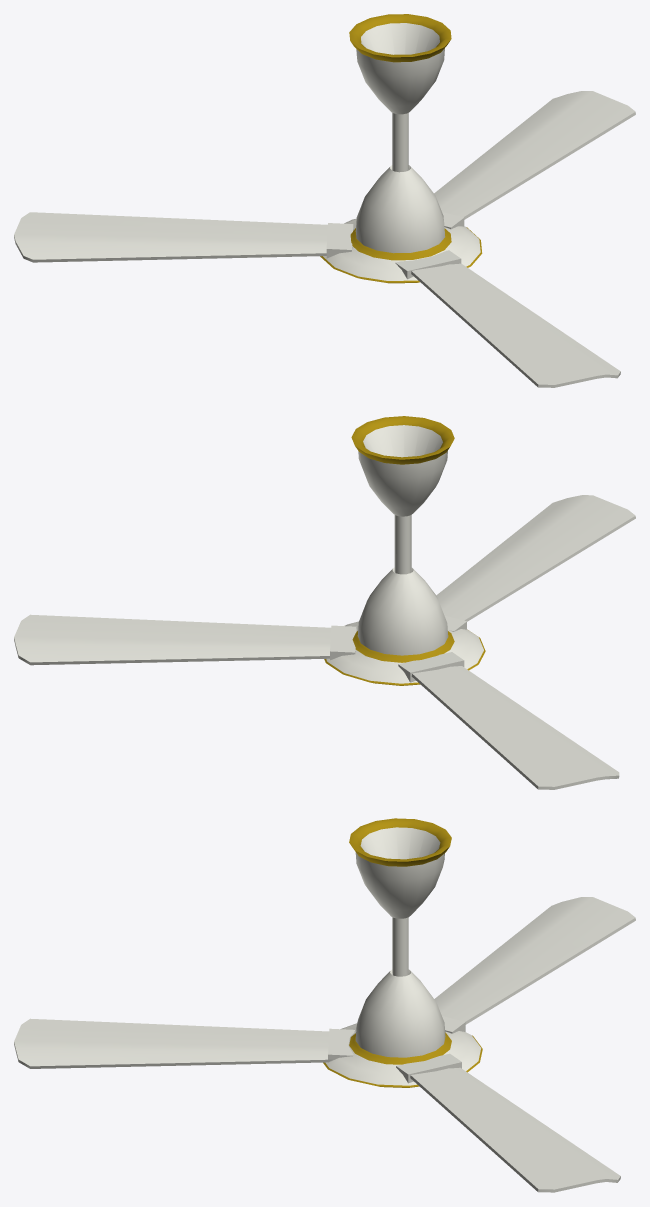
The model's file is ceiling_fan.glb.
3 views of the same model, one above another, from view 1: azimuth 30°, elevation 25°; view 2: azimuth 150°, elevation 25°; view 3: azimuth 270°, elevation 25° (orthographic).
Visible parts, largest first — view 1: Ceiling Fan; view 2: Ceiling Fan; view 3: Ceiling Fan.
Boxes of the visible parts, left/top/right/bottom form: Ceiling Fan: left=14, top=14, right=635, bottom=387; Ceiling Fan: left=14, top=416, right=635, bottom=789; Ceiling Fan: left=14, top=818, right=635, bottom=1192.
Size of the model in its own units: 1.86 by 0.6748 by 1.66.
